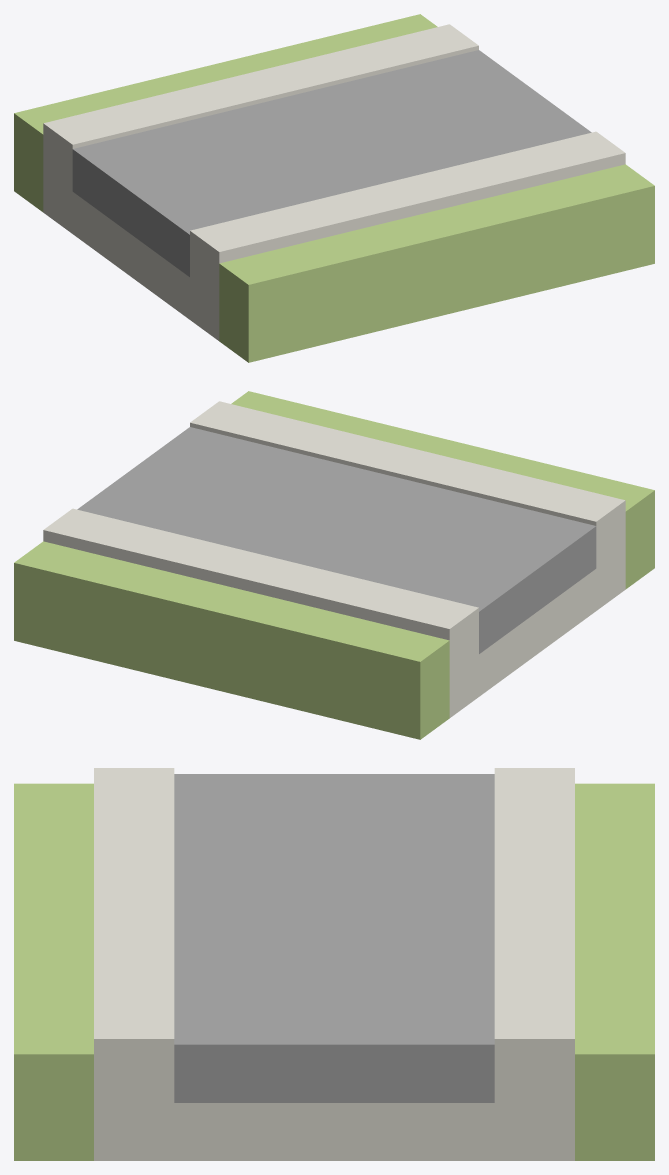
The model's file is road_tile_162.glb.
3 renders of one model, top to bottom at view 1: azimuth 30°, elevation 25°; view 2: azimuth 150°, elevation 25°; view 3: azimuth 270°, elevation 25°, orthographic. The views are drawn at different scales.
Visible parts, largest first — view 1: roadTile_162; view 2: roadTile_162; view 3: roadTile_162.
Boxes of the visible parts, left/top/right/bottom form: roadTile_162: left=14, top=14, right=654, bottom=362; roadTile_162: left=14, top=391, right=654, bottom=739; roadTile_162: left=14, top=768, right=654, bottom=1160.
Size of the model in its own units: 3 by 0.63 by 3.
